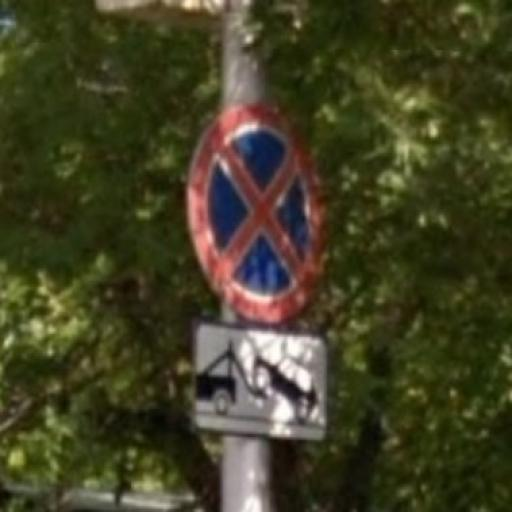traffic_sign: (188, 103, 330, 326)
